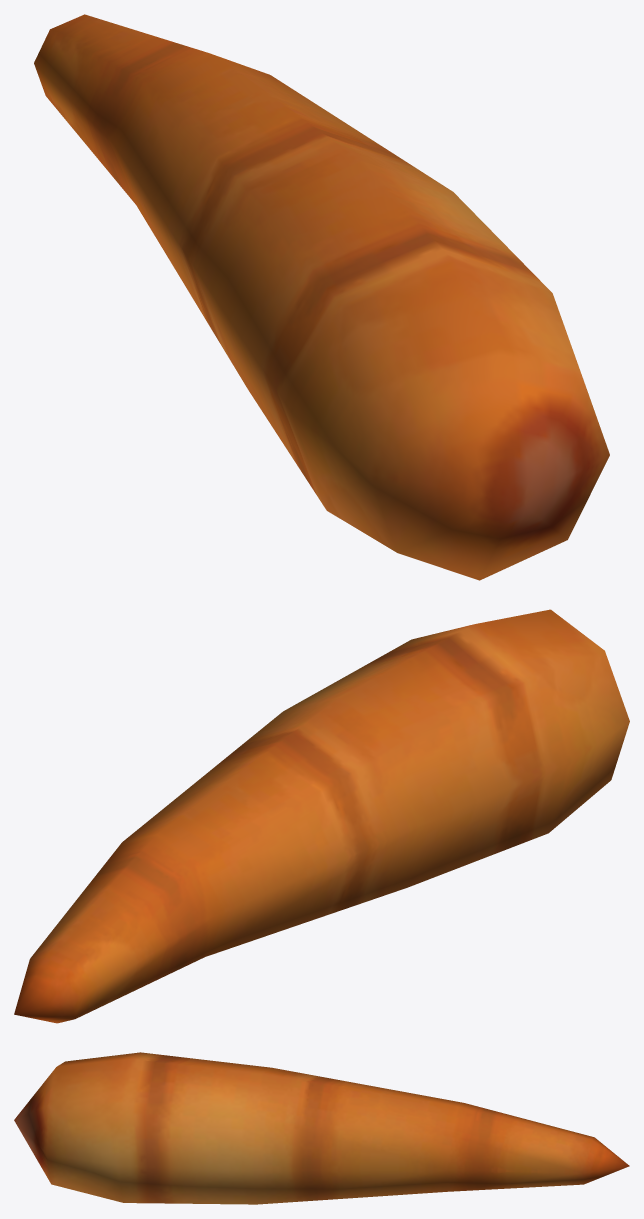
File: Carrot.fbx
The picture shows the model from 3 angles, top to bottom: view 1: azimuth 30°, elevation 25°; view 2: azimuth 150°, elevation 25°; view 3: azimuth 270°, elevation 25°; orthographic projection. The views are drawn at different scales.
Parts seen in each view (by area): view 1: Carrot; view 2: Carrot; view 3: Carrot.
Boxes of the visible parts, bbox=[...] form: Carrot: bbox=[34, 14, 609, 580]; Carrot: bbox=[14, 609, 629, 1023]; Carrot: bbox=[14, 1052, 629, 1204].
Bounding box in the file's own units: 0.045 × 0.0407 × 0.1602.
Materials: 1 (1 with a texture image).
